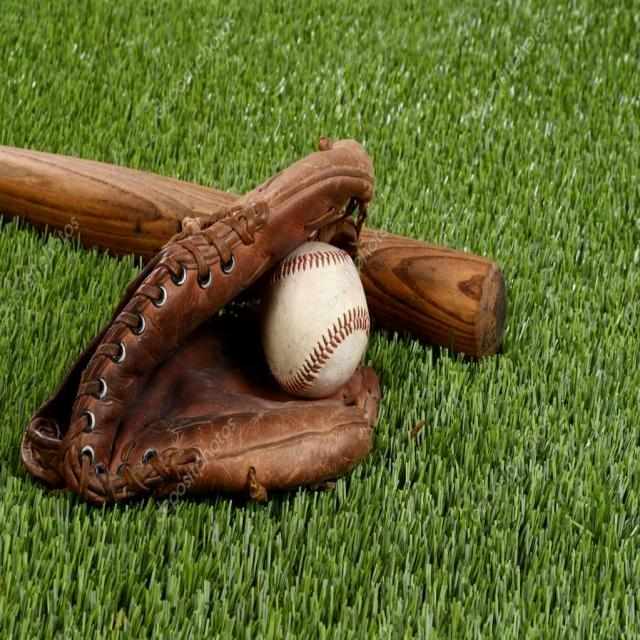baseball bat: (0, 150, 510, 360)
sports ball: (258, 238, 374, 402)
